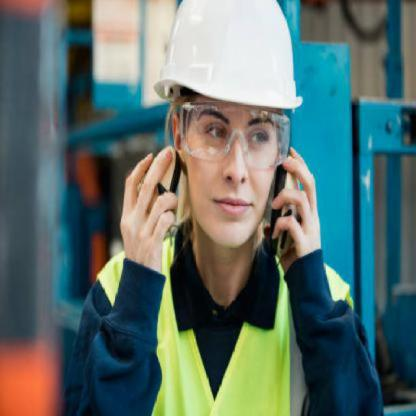glass: (170, 96, 294, 171)
person: (53, 3, 388, 412)
vest-helm: (103, 233, 349, 416)
white-helm: (152, 4, 310, 116)
